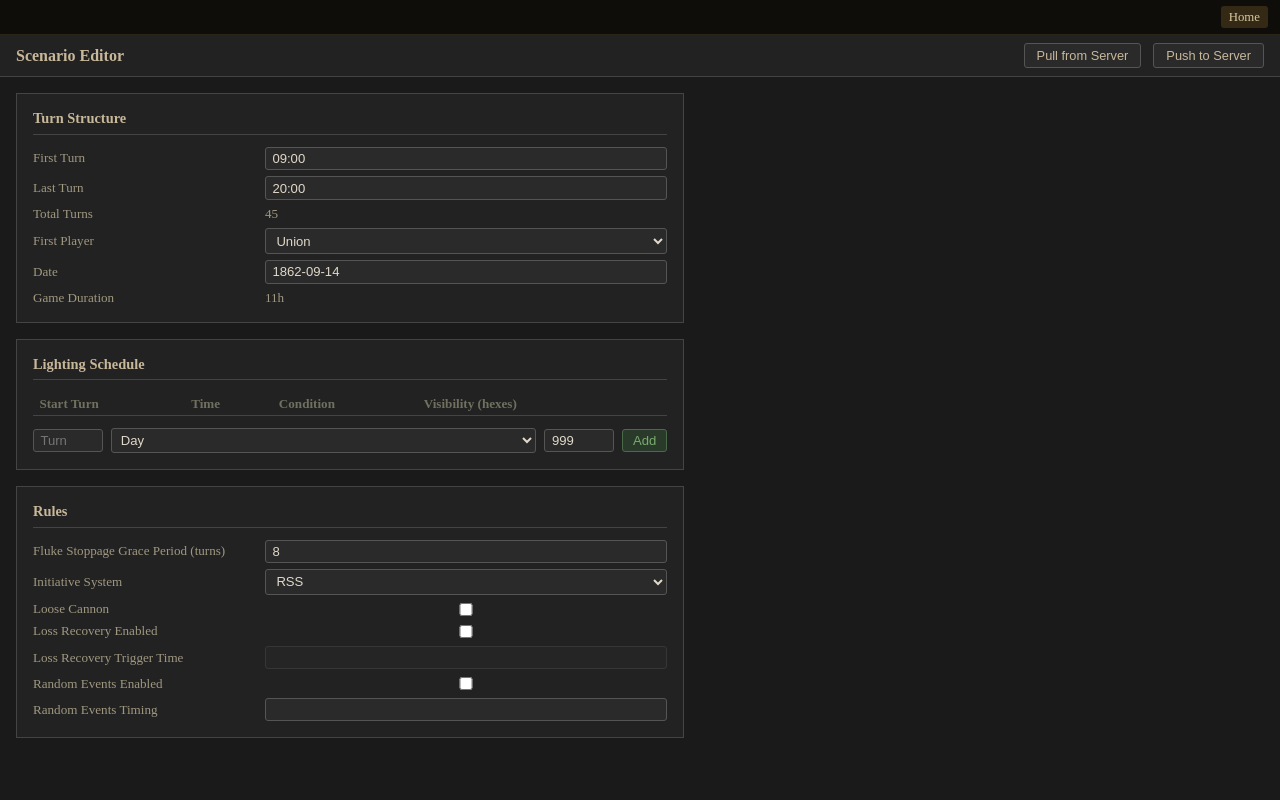
Test: ScenarioEditorView › Lighting schedule › adds a new lighting row when startTurn > 0
In the number field with class "turn-input" showing "Turn": (68, 440) [33, 429, 103, 452], type "5"
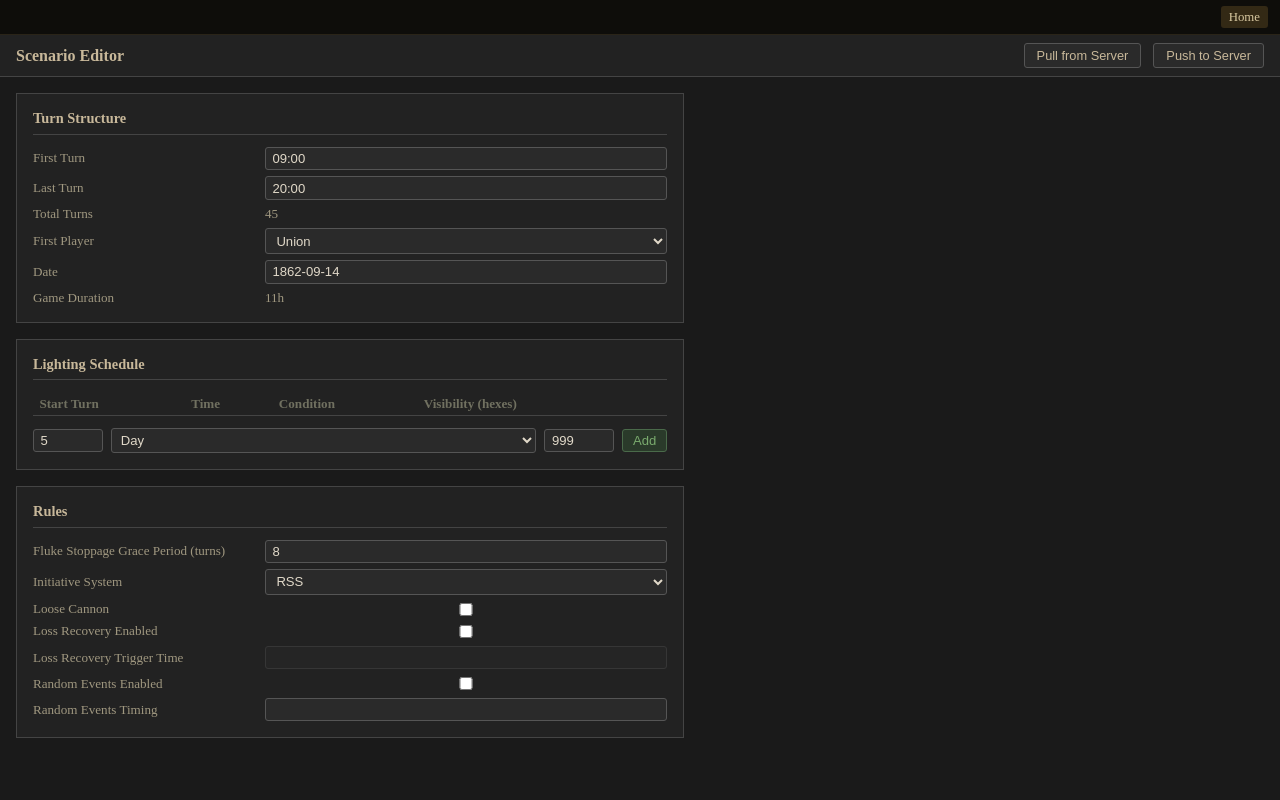
Click the button with class "add-btn": (645, 440) [622, 429, 667, 452]
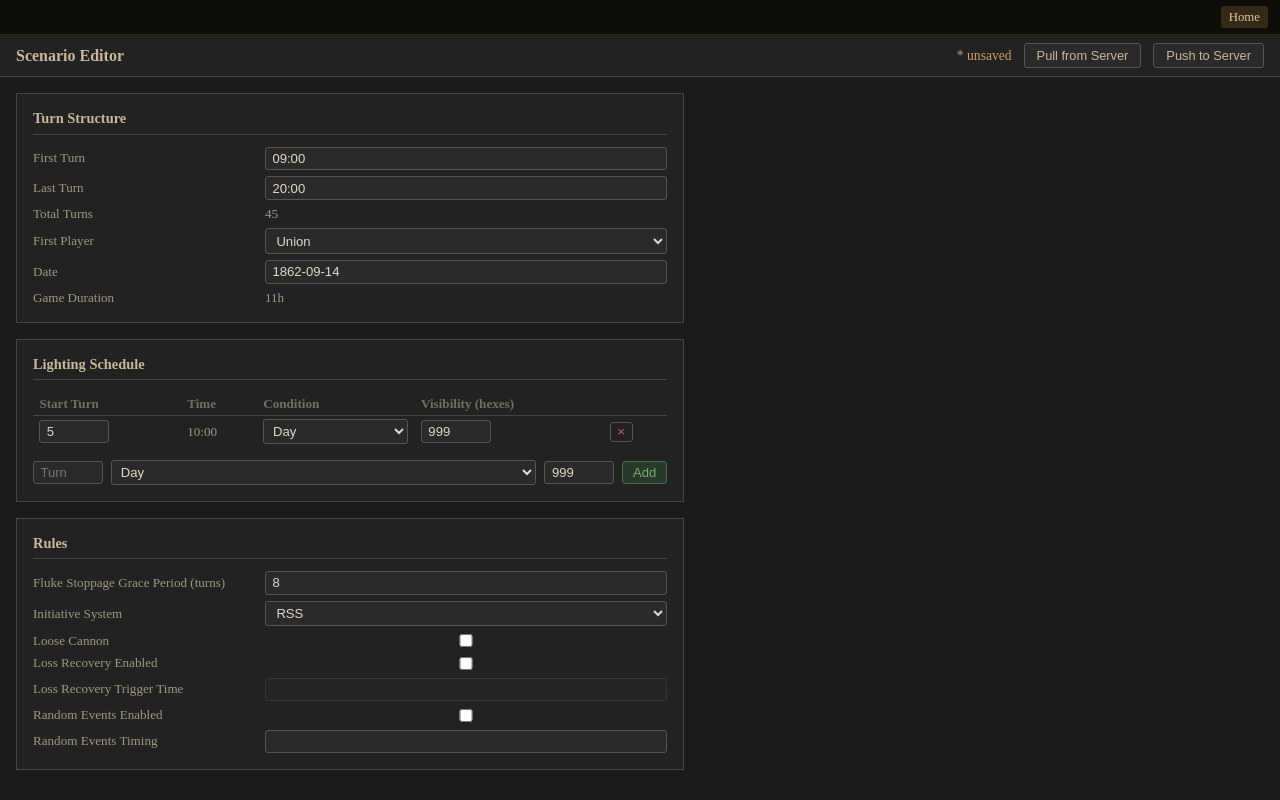
Check: the number of rows with class "lighting-row" is 1, box [33, 415, 667, 448]
